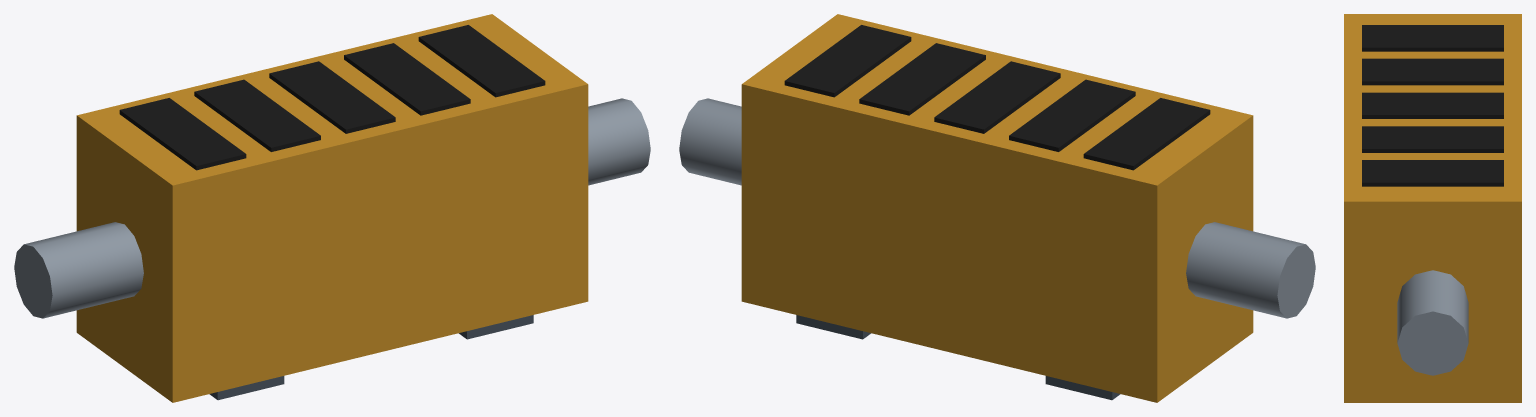
File: resistor.glb
3 renders of one model, left to right at view 1: azimuth 30°, elevation 25°; view 2: azimuth 150°, elevation 25°; view 3: azimuth 270°, elevation 25°, orthographic. The views are drawn at different scales.
Size of the model in its own units: 0.72 by 0.27 by 0.2.
